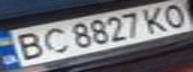2: (106, 12, 130, 43)
7: (118, 9, 145, 38)
8: (87, 16, 112, 46), (69, 19, 93, 49)
B: (6, 29, 48, 62)
C: (36, 25, 72, 55)
K: (136, 3, 175, 34)
O: (157, 1, 193, 28)
